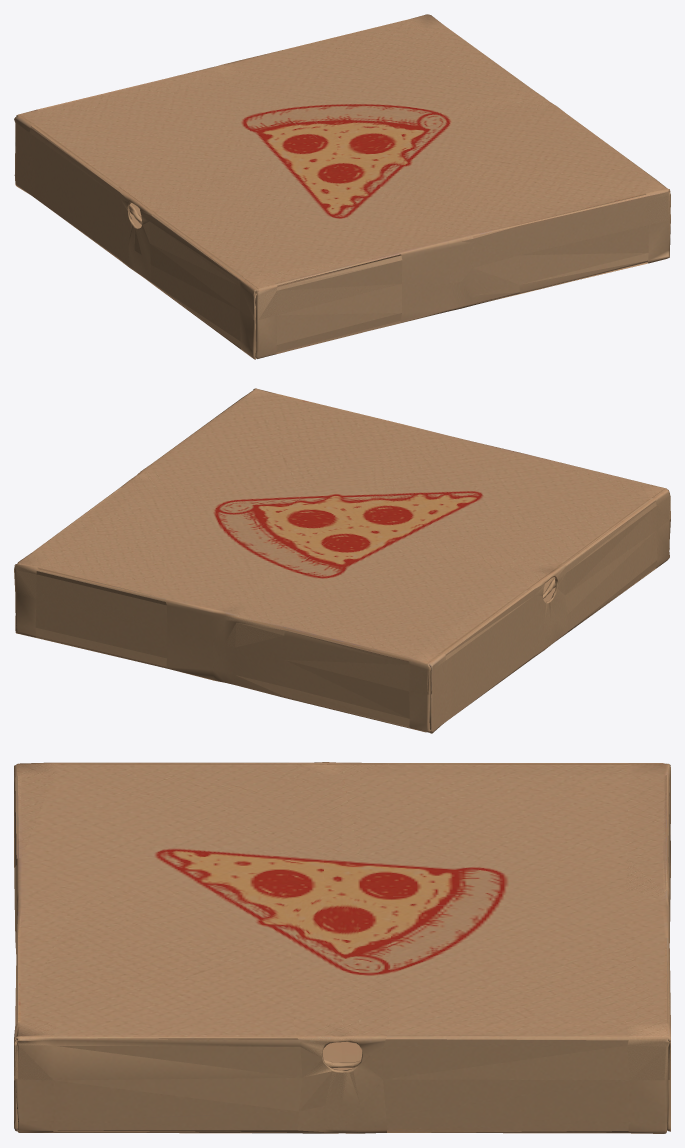
Rendered from ClosedPizza.fbx.
3 views of the same model, one above another, from view 1: azimuth 30°, elevation 25°; view 2: azimuth 150°, elevation 25°; view 3: azimuth 270°, elevation 25° (orthographic). The views are drawn at different scales.
Parts seen in each view (by area): view 1: mesh_node; view 2: mesh_node; view 3: mesh_node.
Boxes of the visible parts, box(x1,y1,x2,y2) form: mesh_node: box(14, 14, 670, 359); mesh_node: box(14, 388, 670, 733); mesh_node: box(14, 762, 670, 1133).
Bounding box in the file's own units: 100 × 16.6 × 100.
1 material, 1 textured.
